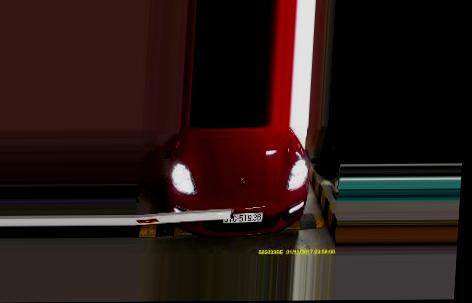License_Plate: (222, 212, 264, 223)
